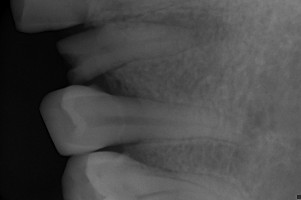Furcation Involvement: (156, 13, 228, 46)
